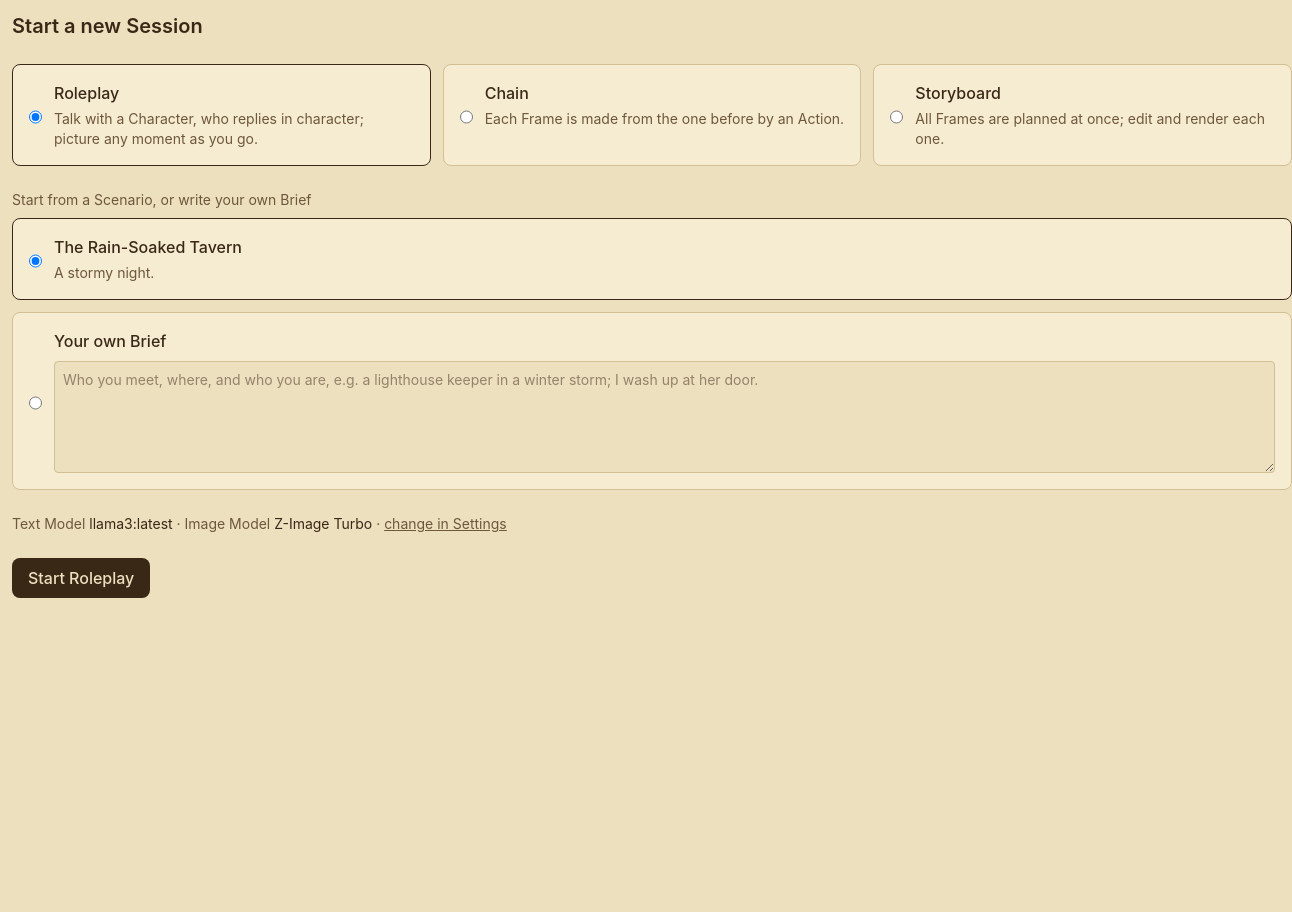
Scenario: StartSession › limits a Storyboard to 32 Frames
Click the 3rd radio button at coordinates (897, 117), box [890,85,903,149]
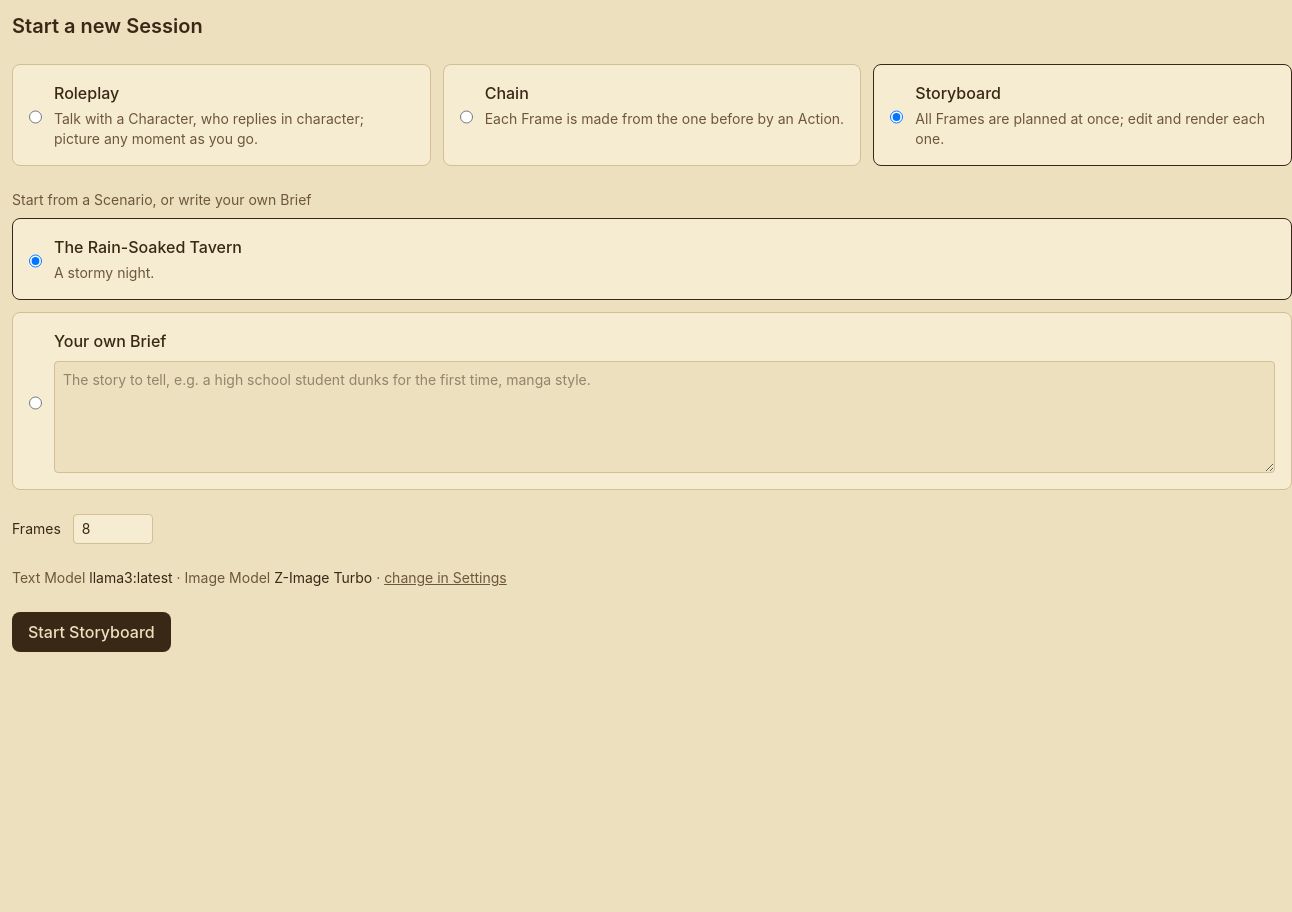
Replace the text in the number field labelled "Frames" with "33" at coordinates (113, 529), box [73,514,153,544]
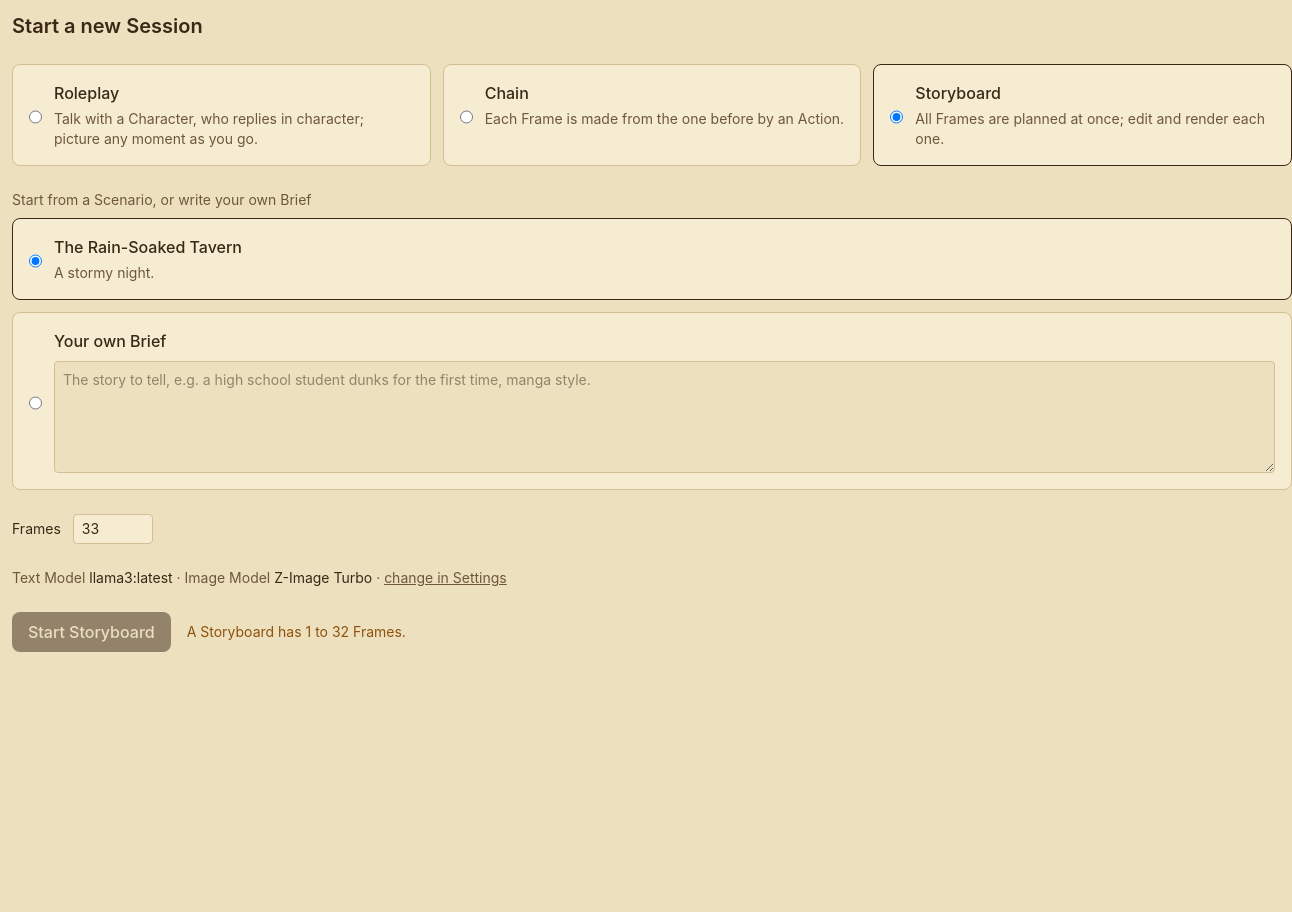
Result: the button "Start Storyboard" is disabled at [12,612,171,652]
Result: the text "1 to 32 Frames" is shown at [187,623,406,640]
